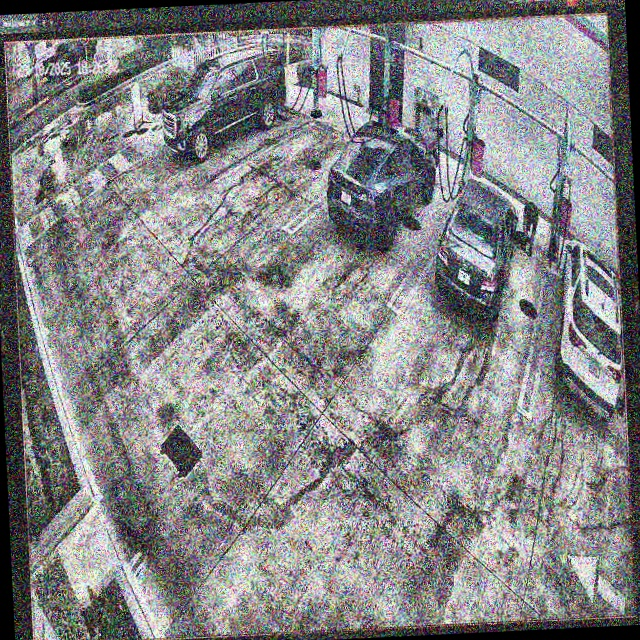Car: (325, 117, 440, 253), (159, 47, 289, 162), (434, 178, 522, 327)
